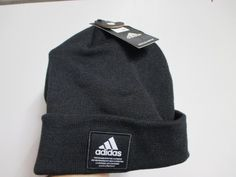adidas Originale: (92, 133, 128, 158)
